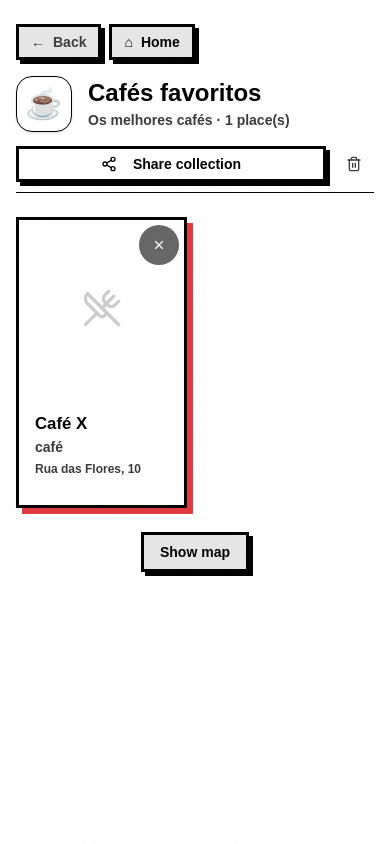
Scenario: confirms before removing a place from the collection
Expected: the heading "Café X" is shown, top-left (35, 414), bottom-right (87, 433)
Click the button titled "remove from collection".
click(159, 245)  # box top-left (139, 225), bottom-right (179, 265)
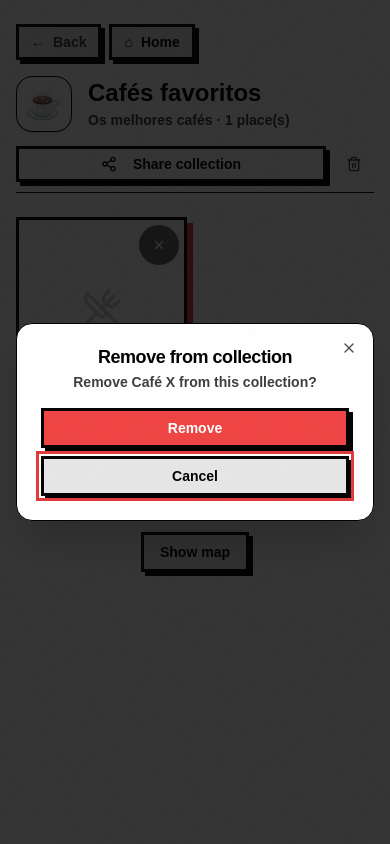
Expected: the dialog is shown, top-left (16, 323), bottom-right (374, 521)
